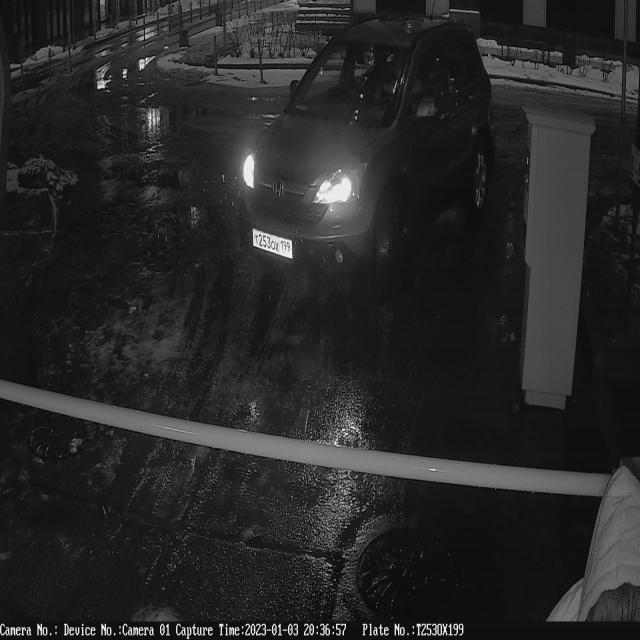car-plate-numbers: (252, 226, 295, 261)
